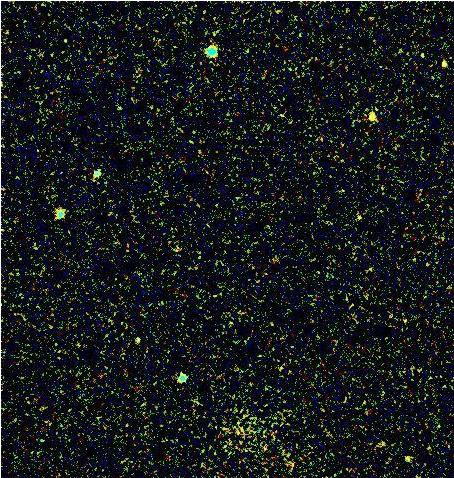star: (358, 103, 388, 133)
